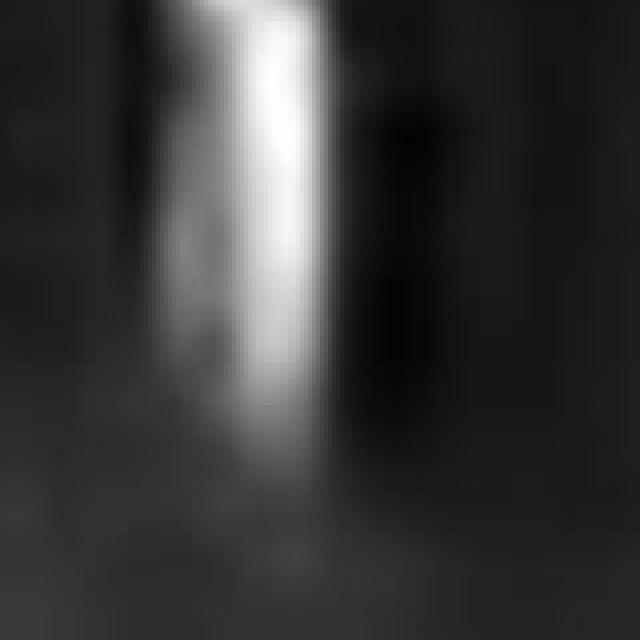person: (141, 1, 337, 486)
